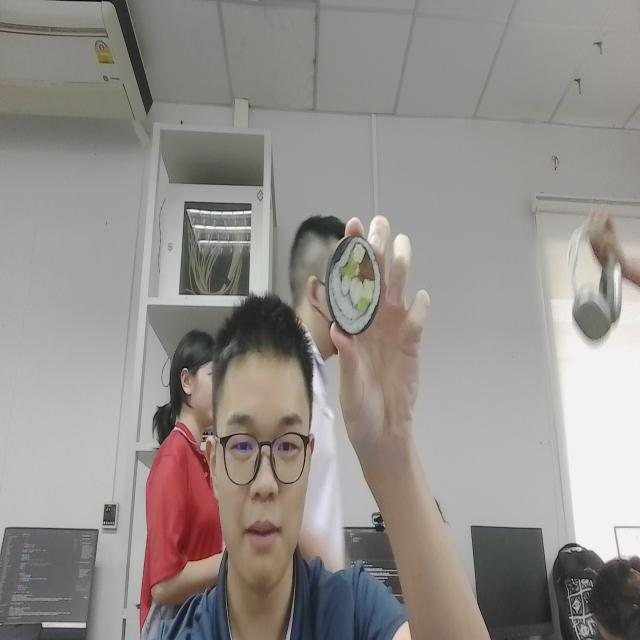sushi: (322, 225, 384, 349)
